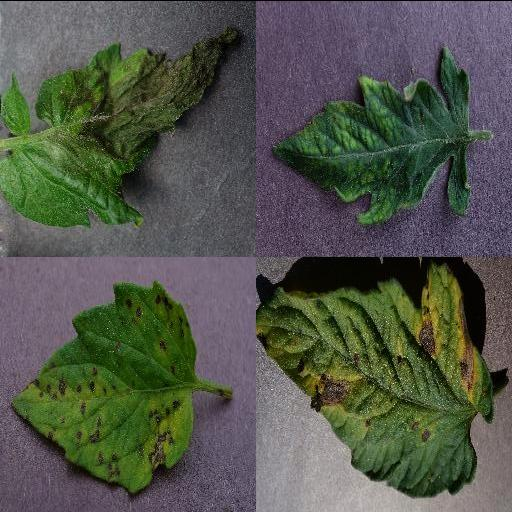Early Blight: (256, 259, 494, 499)
Late Blight: (0, 23, 240, 227)
Mosaic Virus: (271, 44, 475, 224)
Septoria: (11, 280, 197, 492)
